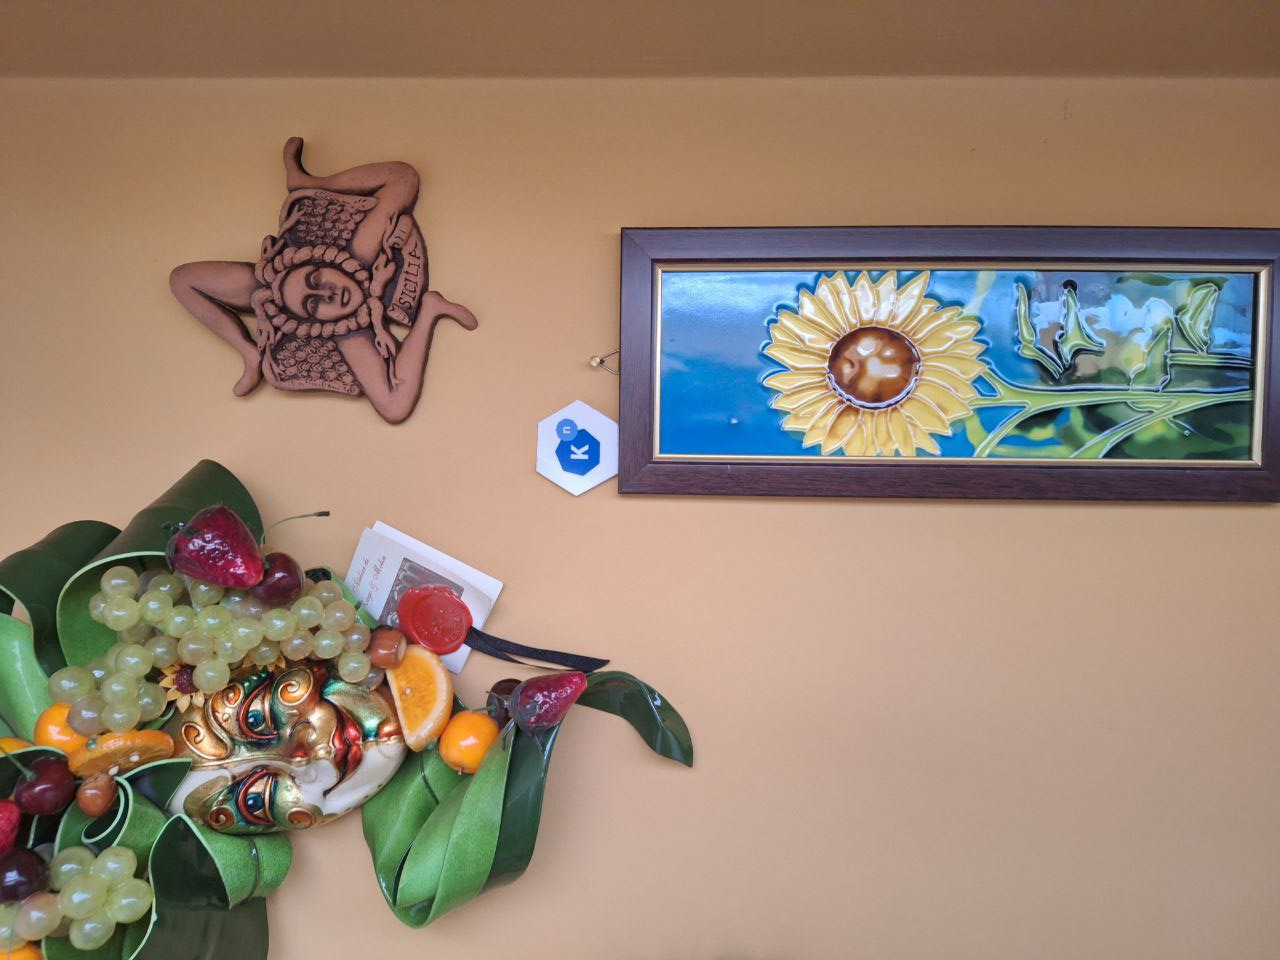knative: (551, 419, 603, 476)
